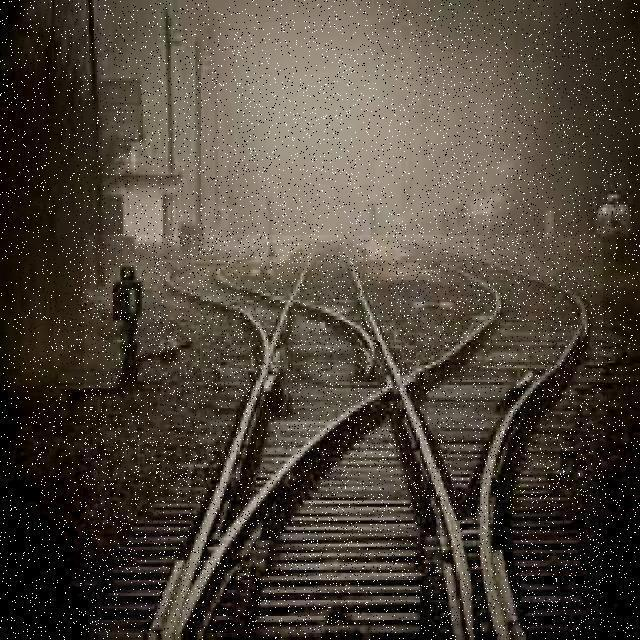rail: (85, 237, 604, 635)
